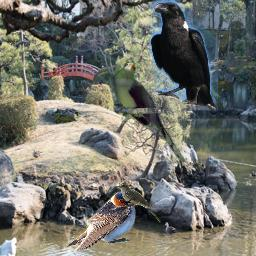Crow: (149, 0, 218, 110)
Cuckoo: (111, 61, 190, 164), (116, 184, 161, 223)
Swallow: (65, 191, 136, 254)
